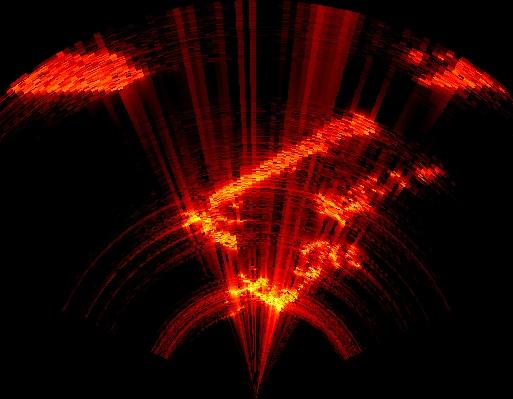shipwreck: (183, 114, 377, 249), (229, 240, 360, 310), (313, 171, 408, 226), (418, 166, 440, 182)
